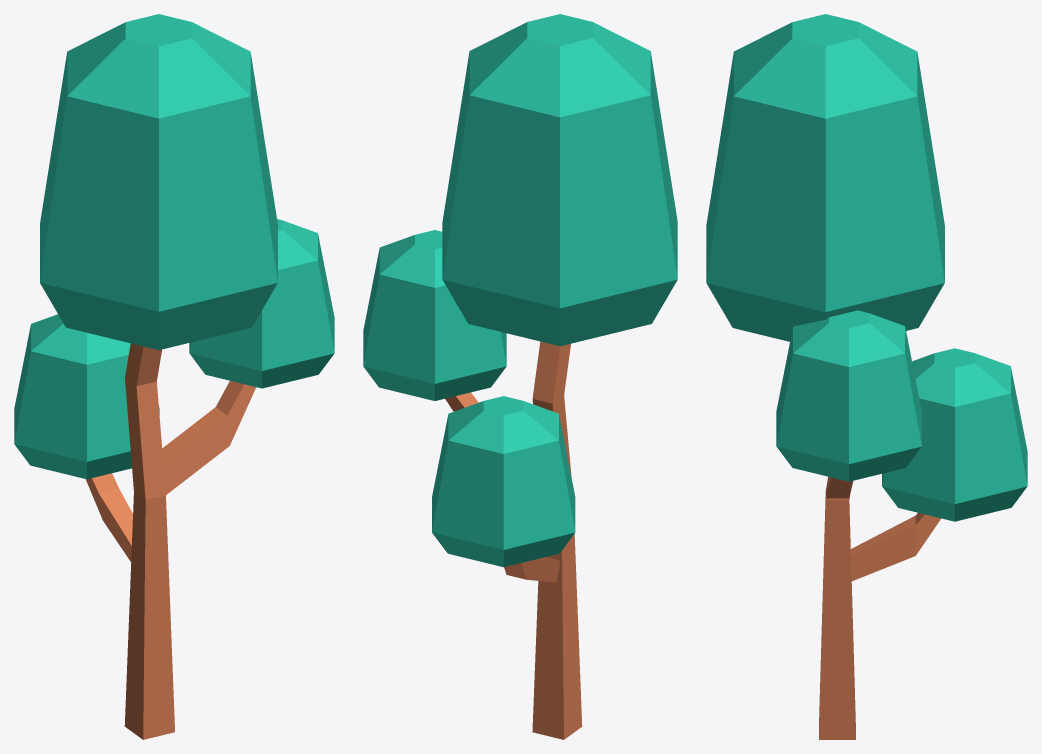
Rendered from tree_thin.dae.
3 renders of one model, left to right at view 1: azimuth 30°, elevation 25°; view 2: azimuth 150°, elevation 25°; view 3: azimuth 270°, elevation 25°, orthographic.
Parts seen in each view (by area): view 1: tree_thin; view 2: tree_thin; view 3: tree_thin.
Part boxes in pixels (left/top/right/bottom): tree_thin: left=14, top=14, right=334, bottom=739; tree_thin: left=363, top=14, right=677, bottom=739; tree_thin: left=706, top=14, right=1027, bottom=739.
Bounding box in the file's own units: 0.6804 × 1.49 × 0.6165.
